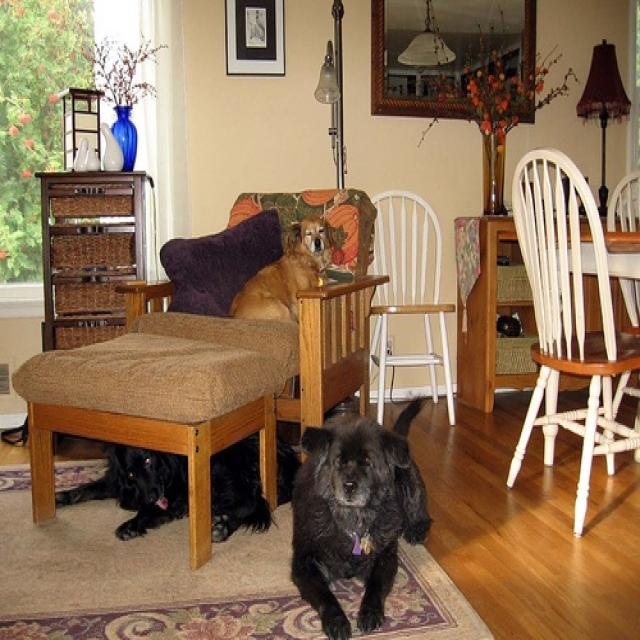chair: (504, 148, 639, 541), (354, 184, 468, 430), (602, 163, 638, 340)
dog: (293, 396, 439, 638), (52, 434, 297, 554), (230, 212, 340, 389)
